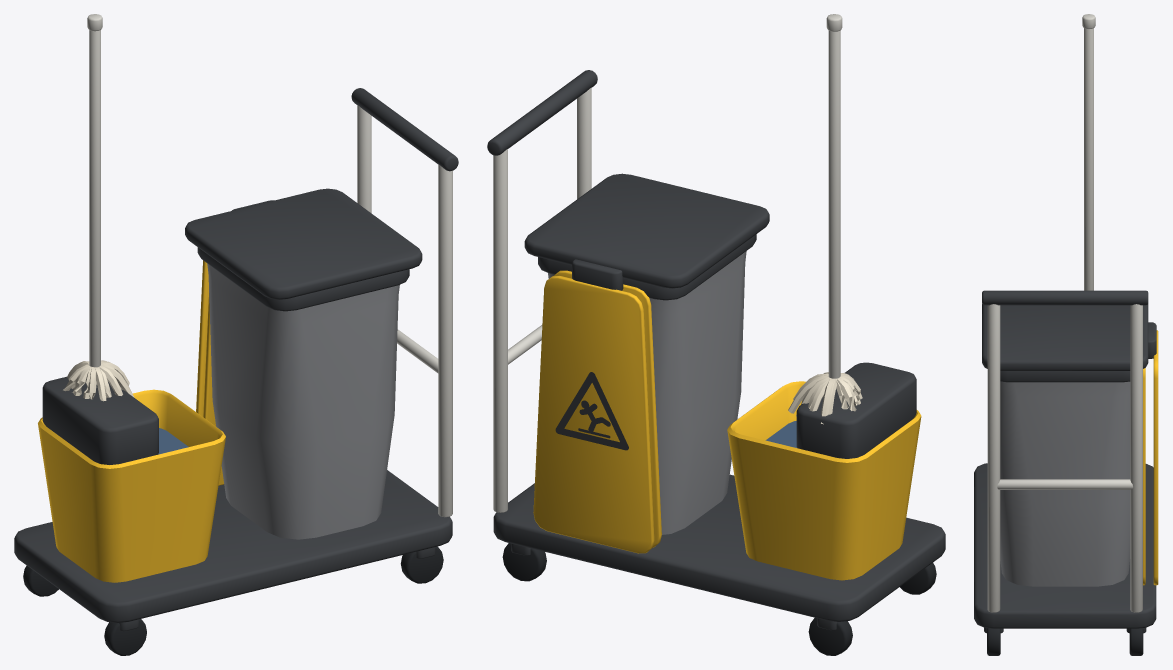
The model's file is chariot_nettoyage.glb.
3 renders of one model, left to right at view 1: azimuth 30°, elevation 25°; view 2: azimuth 150°, elevation 25°; view 3: azimuth 270°, elevation 25°, orthographic. The views are drawn at different scales.
Visible parts, largest first — view 1: CHN_Anthracite, CHN_Gris_Moyen, CHN_Jaune_Signal, CHN_Gris_Clair_Metal, CHN_Noir, CHN_Creme; view 2: CHN_Jaune_Signal, CHN_Anthracite, CHN_Gris_Moyen, CHN_Gris_Clair_Metal, CHN_Noir, CHN_Creme, CHN_Picto; view 3: CHN_Gris_Moyen, CHN_Anthracite, CHN_Gris_Clair_Metal, CHN_Jaune_Signal, CHN_Noir.
Boxes of the visible parts, <box> form: CHN_Anthracite: <box>14,88,458,631</box>; CHN_Gris_Moyen: <box>207,263,399,539</box>; CHN_Jaune_Signal: <box>38,260,225,582</box>; CHN_Gris_Clair_Metal: <box>87,14,452,517</box>; CHN_Noir: <box>23,546,443,655</box>; CHN_Creme: <box>63,360,134,401</box>; CHN_Jaune_Signal: <box>533,270,921,580</box>; CHN_Anthracite: <box>487,70,945,630</box>; CHN_Gris_Moyen: <box>548,251,746,534</box>; CHN_Gris_Clair_Metal: <box>493,14,842,512</box>; CHN_Noir: <box>502,543,936,655</box>; CHN_Creme: <box>788,372,862,424</box>; CHN_Picto: <box>555,372,628,450</box>; CHN_Gris_Moyen: <box>1000,381,1130,586</box>; CHN_Anthracite: <box>974,290,1156,633</box>; CHN_Gris_Clair_Metal: <box>987,14,1142,612</box>; CHN_Jaune_Signal: <box>1143,330,1158,585</box>; CHN_Noir: <box>987,628,1143,655</box>.
Bounding box in the file's own units: 0.909 × 1.45 × 0.4665.
8 materials, 1 textured.
